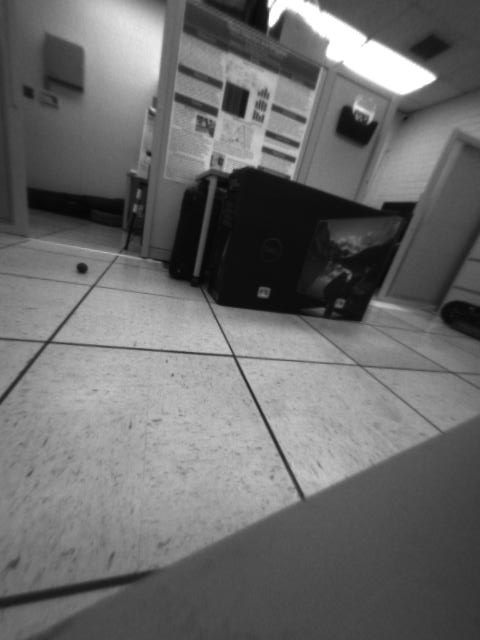dogtoy: (69, 256, 95, 282)
